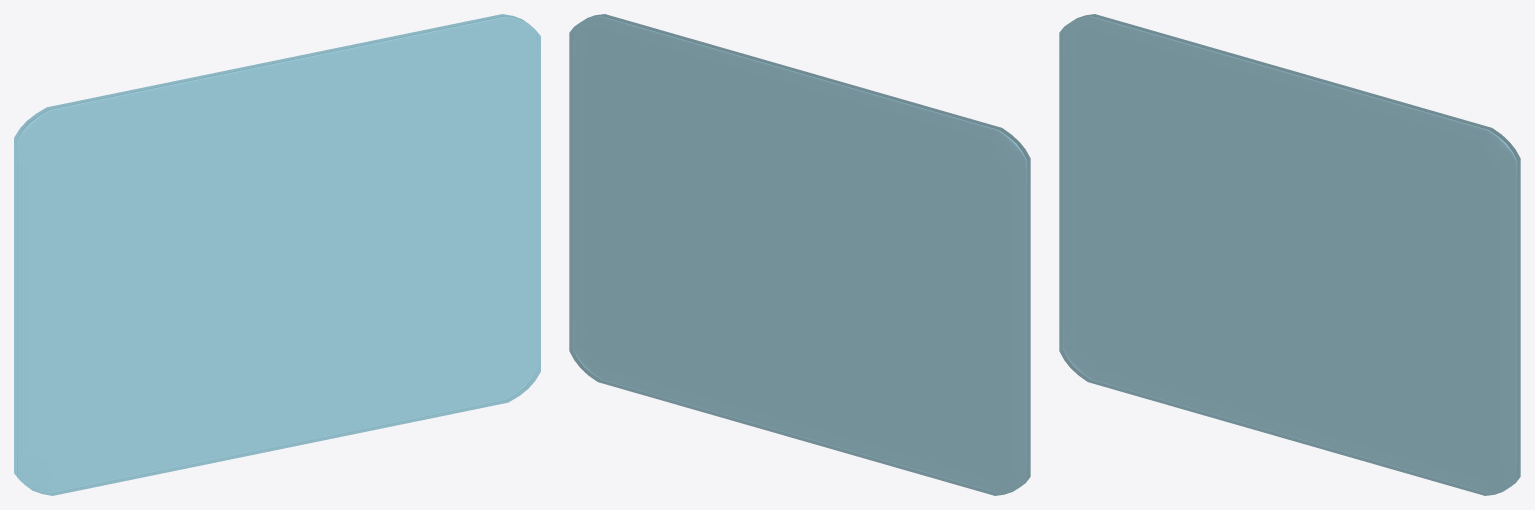
Rendered from plate.glb.
3 views of the same model, side by side, from view 1: azimuth 30°, elevation 25°; view 2: azimuth 150°, elevation 25°; view 3: azimuth 330°, elevation 25° (orthographic). The views are drawn at different scales.
Parts seen in each view (by area): view 1: Cube.001; view 2: Cube.001; view 3: Cube.001.
Part boxes in pixels (<box>): Cube.001: <box>14,14,540,495</box>; Cube.001: <box>569,14,1030,495</box>; Cube.001: <box>1059,14,1520,495</box>.
Bounding box in the file's own units: 1.72 × 1.26 × 0.1644.
